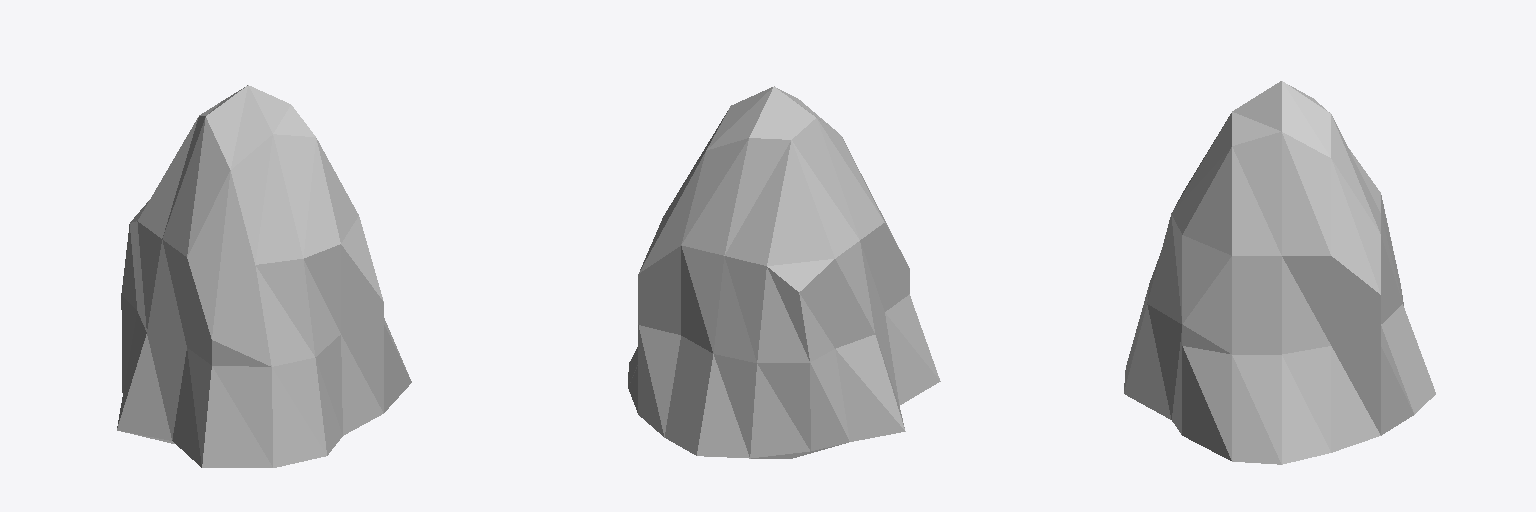
The model's file is Rock_4.obj.
3 renders of one model, left to right at view 1: azimuth 30°, elevation 25°; view 2: azimuth 150°, elevation 25°; view 3: azimuth 270°, elevation 25°, orthographic.
Visible parts, largest first — view 1: Cube; view 2: Cube; view 3: Cube.
Part boxes in pixels (bbox=[...]): Cube: bbox=[117, 85, 411, 467]; Cube: bbox=[628, 86, 940, 458]; Cube: bbox=[1124, 81, 1435, 464].
Size of the model in its own units: 8.19 by 9.73 by 8.01.